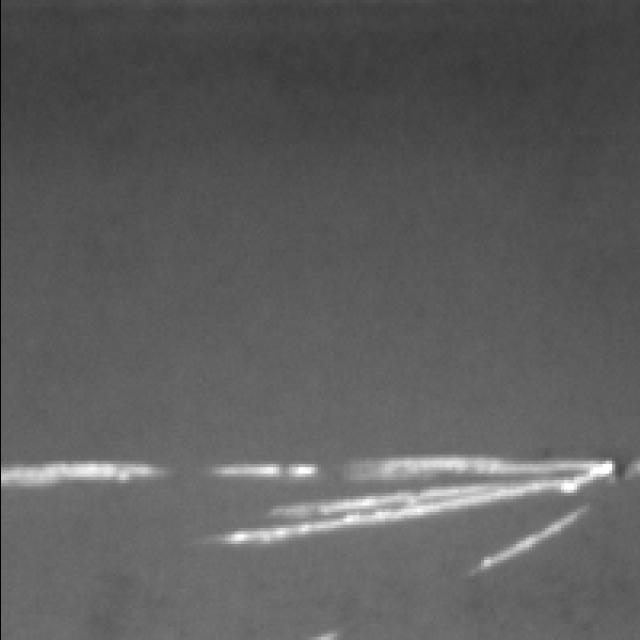scratches: (219, 481, 564, 543), (0, 461, 608, 479), (471, 513, 586, 573)
